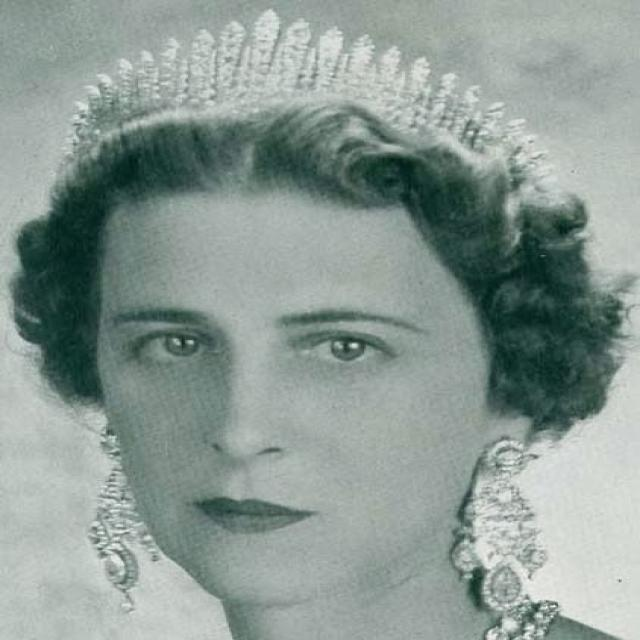Earring: (452, 428, 556, 634), (91, 414, 163, 629)
